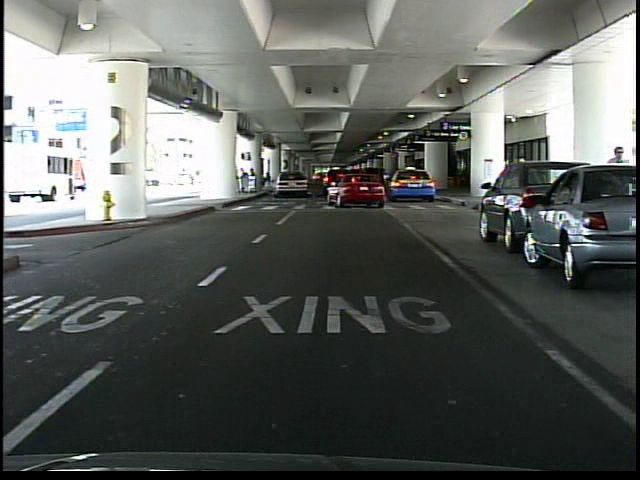person: (604, 142, 635, 248)
